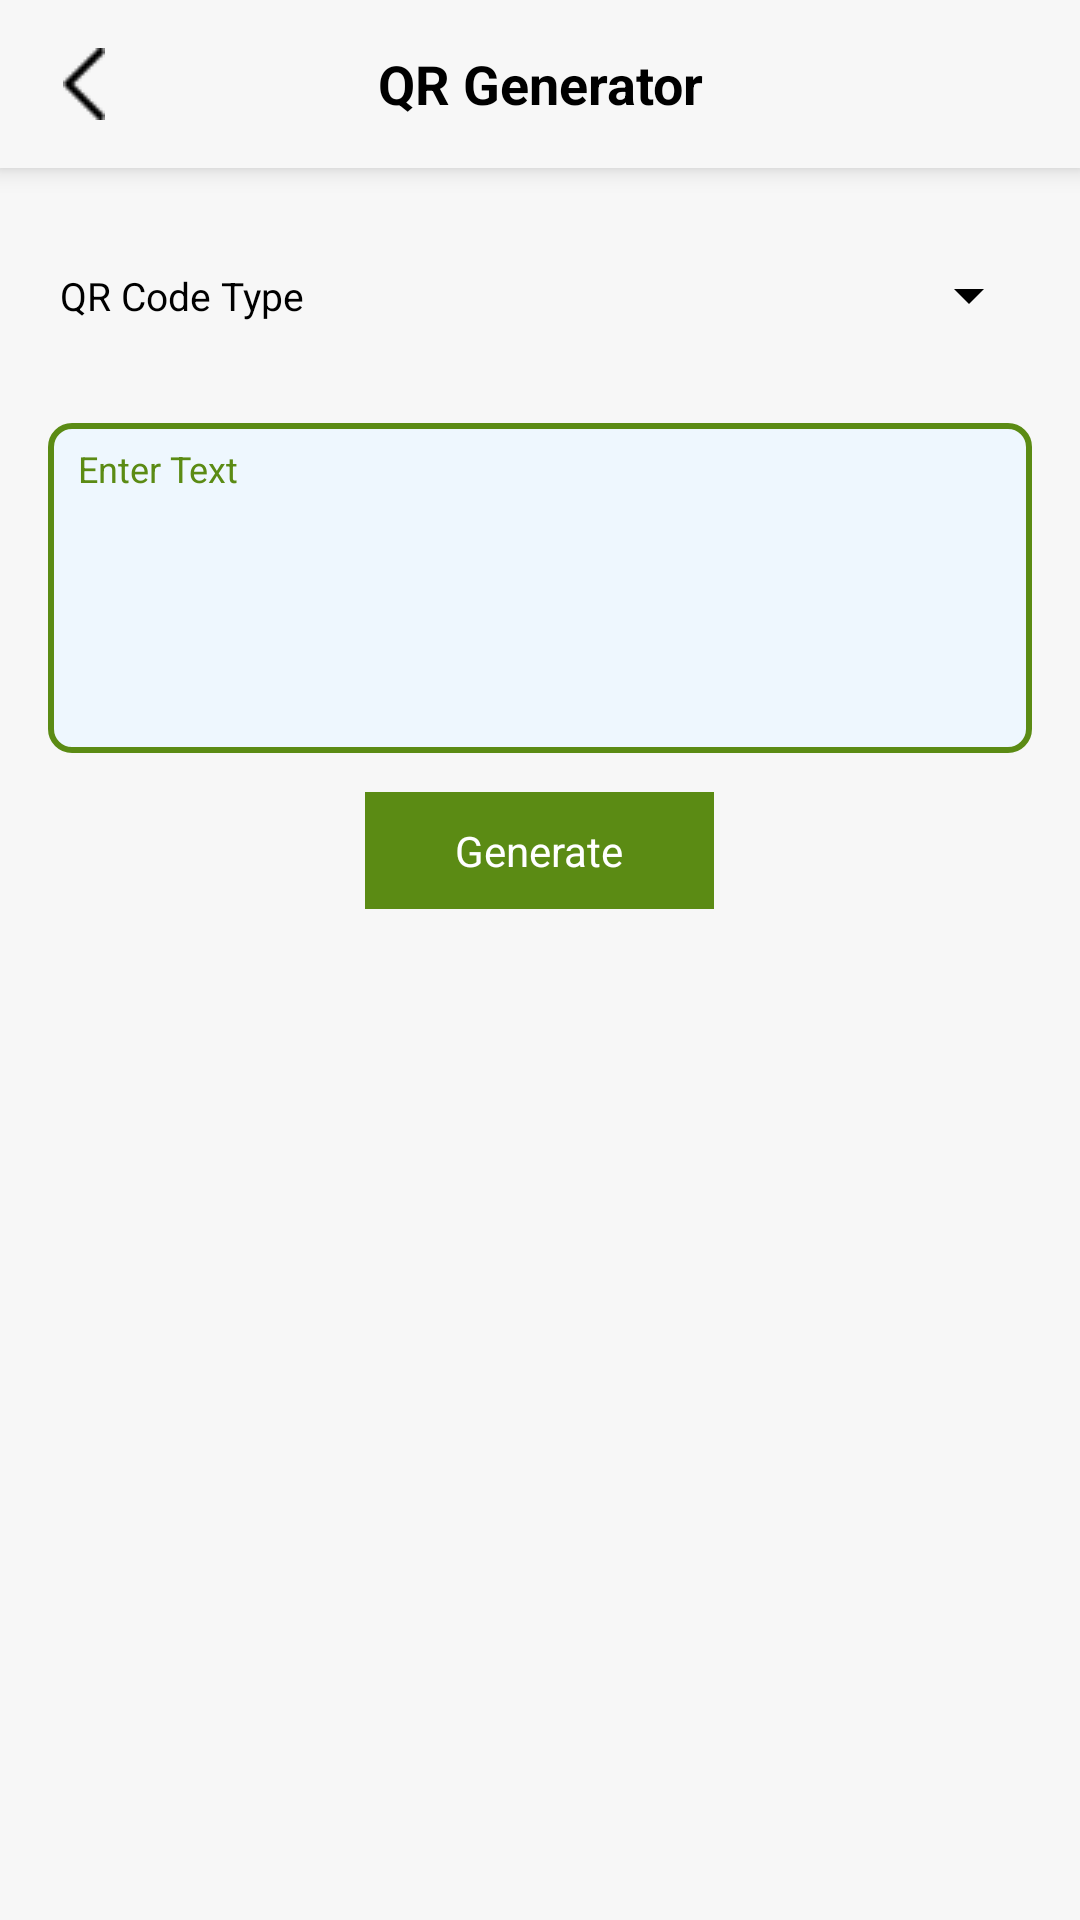

Locate icon controls on the screen. Image size 1080*1920, boxes as BBox(x1, y1, x2, y2).
back: BBox(63, 48, 105, 120)
